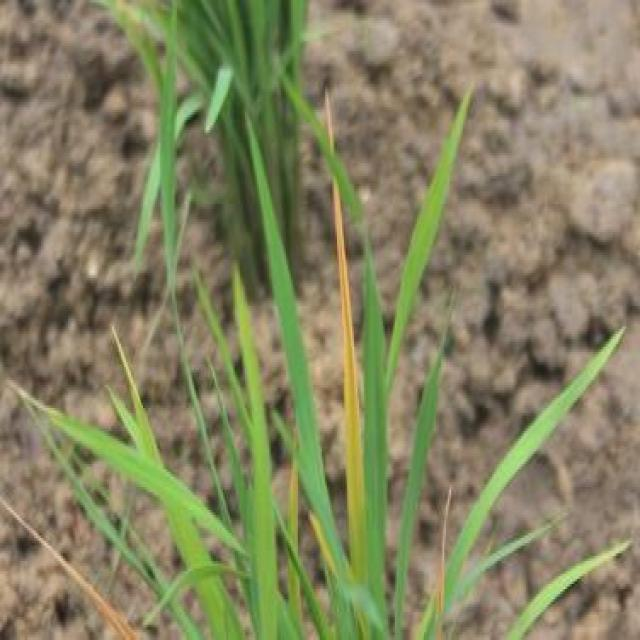Tungro: (312, 75, 378, 582), (0, 479, 141, 640)
